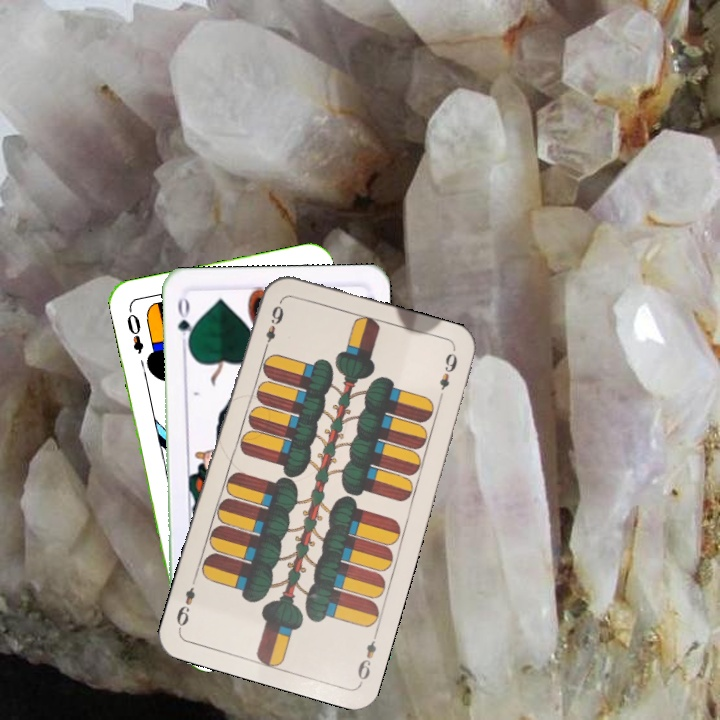E9: (259, 297, 287, 355), (353, 628, 381, 686)
EO: (122, 305, 146, 356)
GO: (173, 293, 196, 352)
